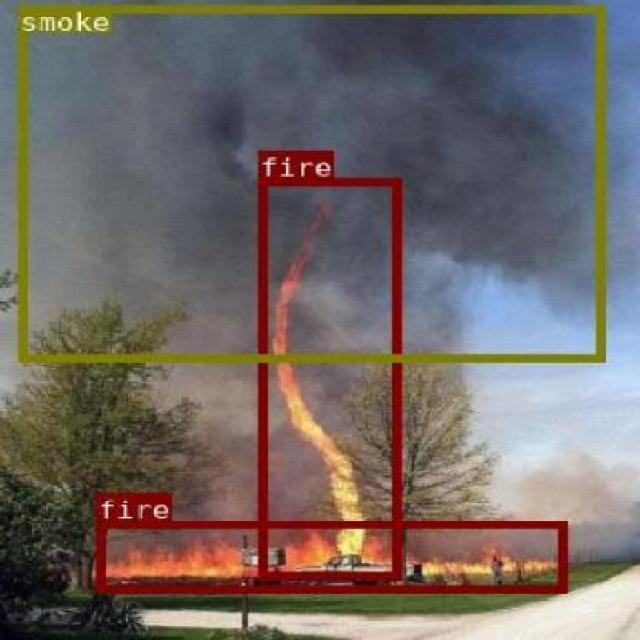Fire: (258, 177, 400, 577), (94, 518, 566, 592)
Smoke: (18, 3, 602, 360)
